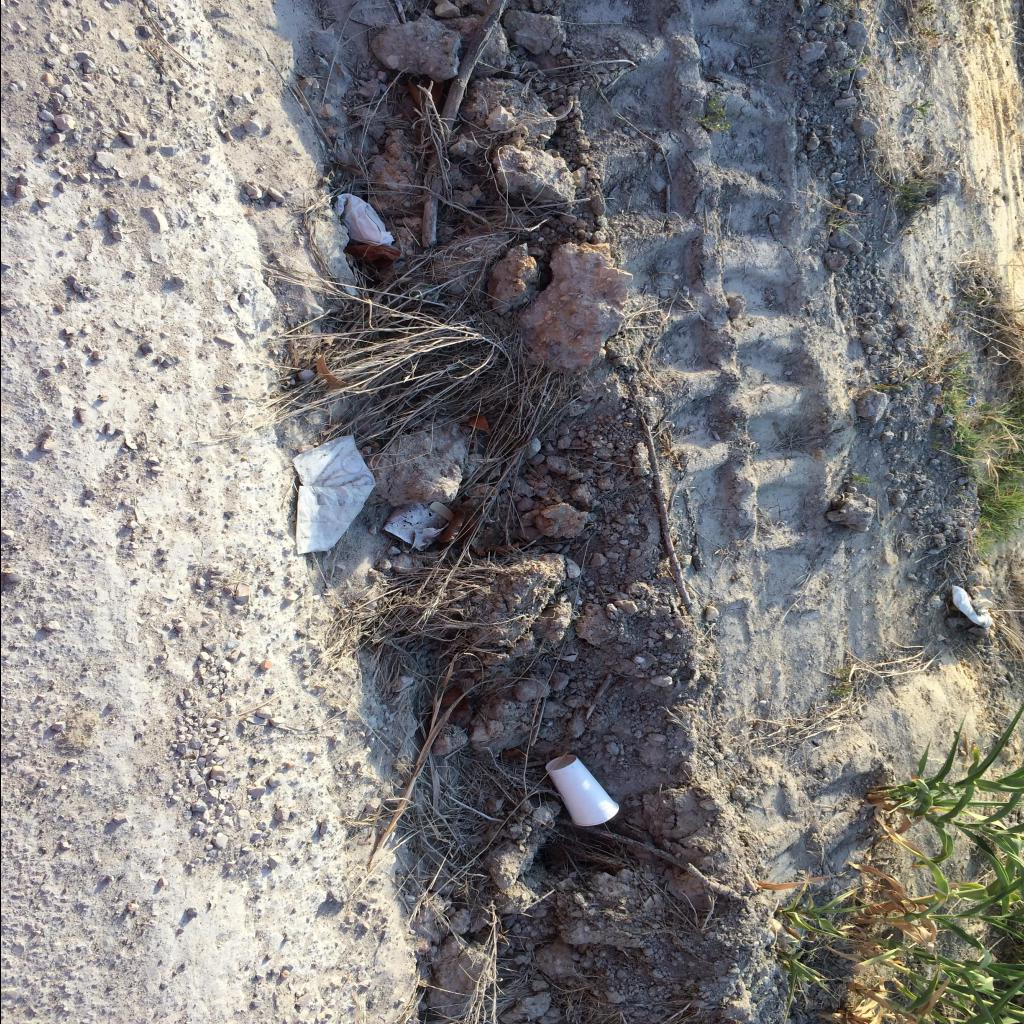Cigarette: (296, 445, 312, 453)
Other carton: (381, 500, 455, 552)
Other plastic: (290, 436, 374, 555)
Other plastic container: (948, 586, 990, 628)
Paper cup: (544, 754, 618, 826)
Unlabeled litter: (332, 194, 392, 246), (964, 395, 976, 405)
